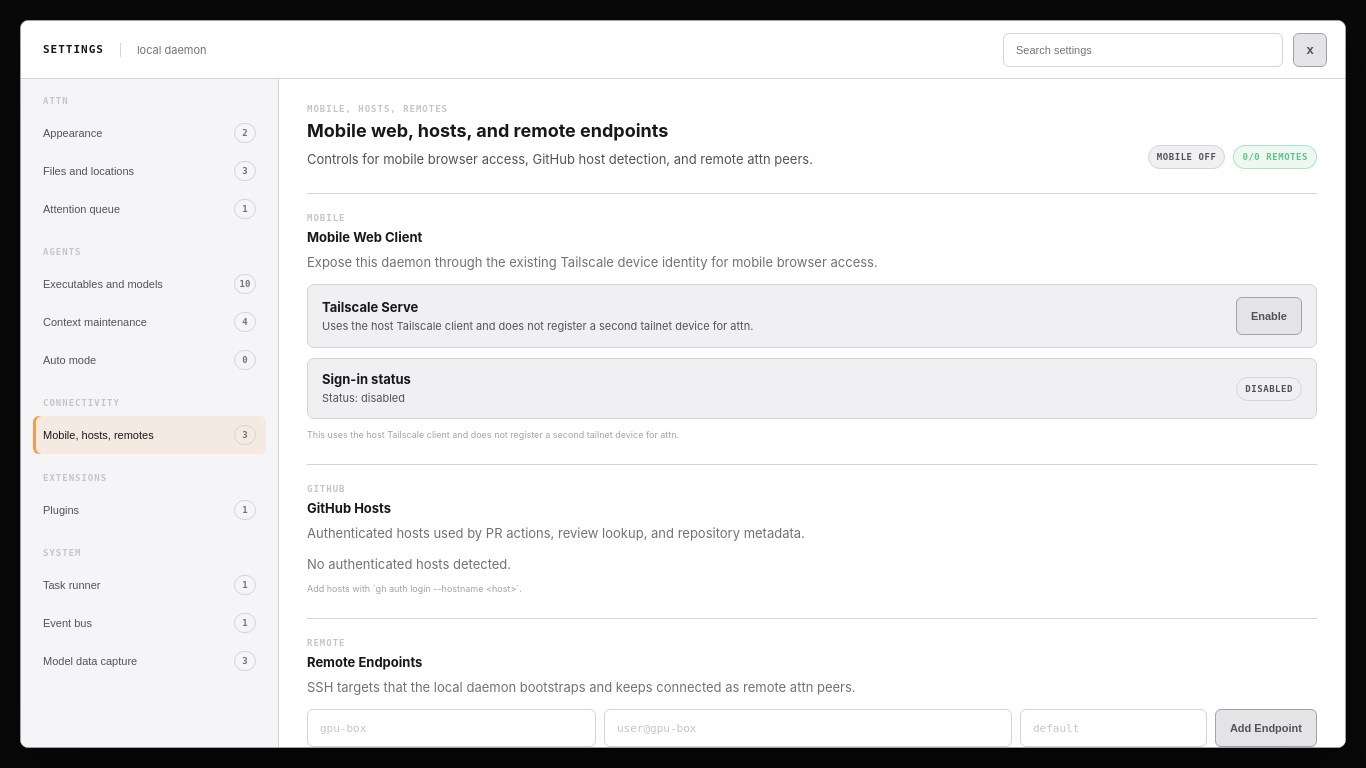
SettingsModal sections › puts the attention queue timings with the rest of hygiene
Click the button with test id "settings-nav-hygiene" at (150, 209), box x1=33 y1=190 x2=266 y2=228
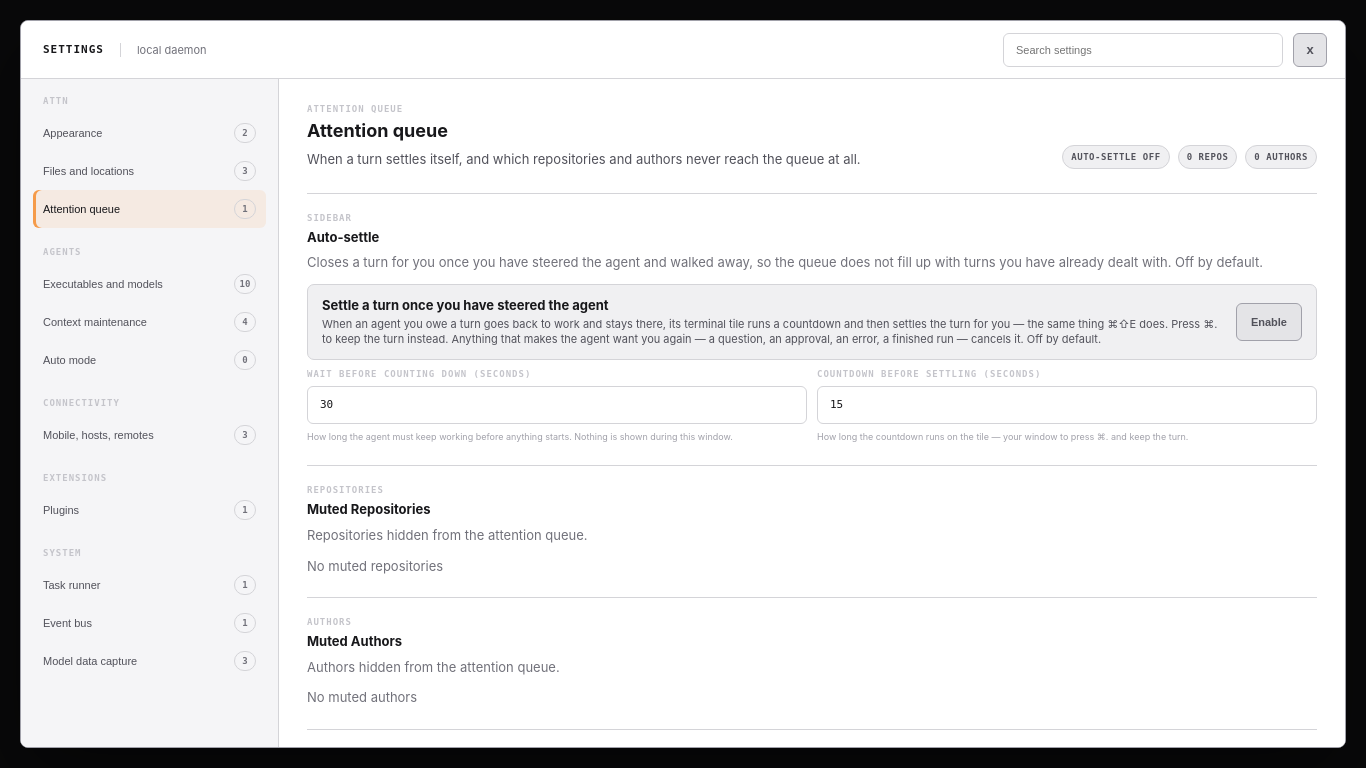
Result: the number field with test id "settings-auto-settle-arm" is shown at x1=307 y1=386 x2=807 y2=424
Result: the number field with test id "settings-auto-settle-countdown" is shown at x1=817 y1=386 x2=1317 y2=424
